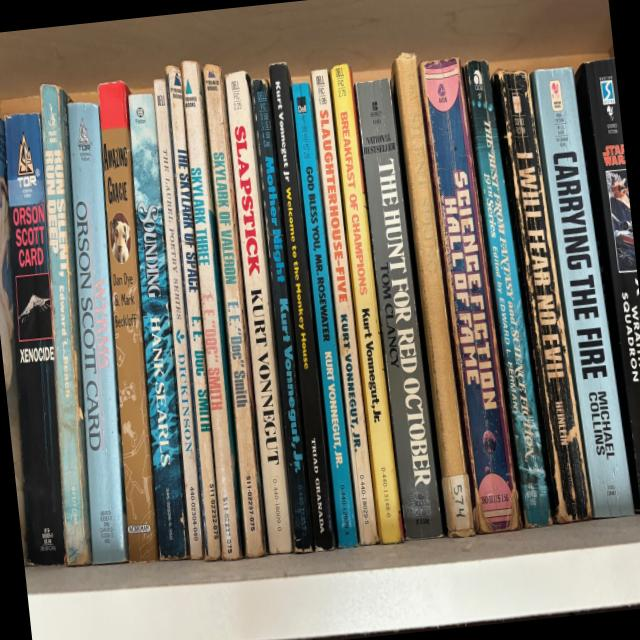book: (414, 57, 522, 535), (527, 64, 635, 521), (488, 66, 593, 524), (459, 59, 553, 527), (350, 79, 445, 542), (387, 52, 476, 539), (329, 64, 404, 544), (266, 61, 338, 551), (223, 70, 295, 553), (308, 69, 379, 546), (201, 63, 268, 558), (289, 81, 359, 548), (180, 59, 245, 560), (122, 92, 191, 560), (61, 101, 130, 564), (249, 78, 314, 553), (573, 58, 640, 514), (97, 81, 160, 563), (0, 112, 66, 565), (164, 63, 222, 560), (38, 83, 93, 567), (152, 79, 205, 559), (0, 117, 28, 565)
